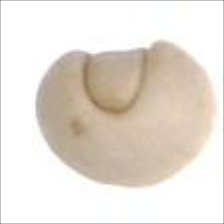L5: (81, 47, 151, 117)
L6: (32, 38, 219, 188)
